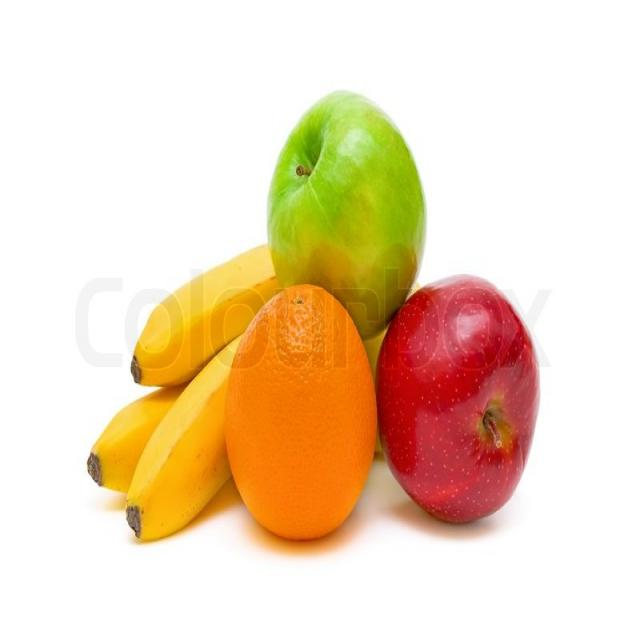apple: (264, 85, 426, 352), (381, 272, 541, 529)
banana: (84, 238, 300, 553)
orange: (222, 281, 378, 547)
